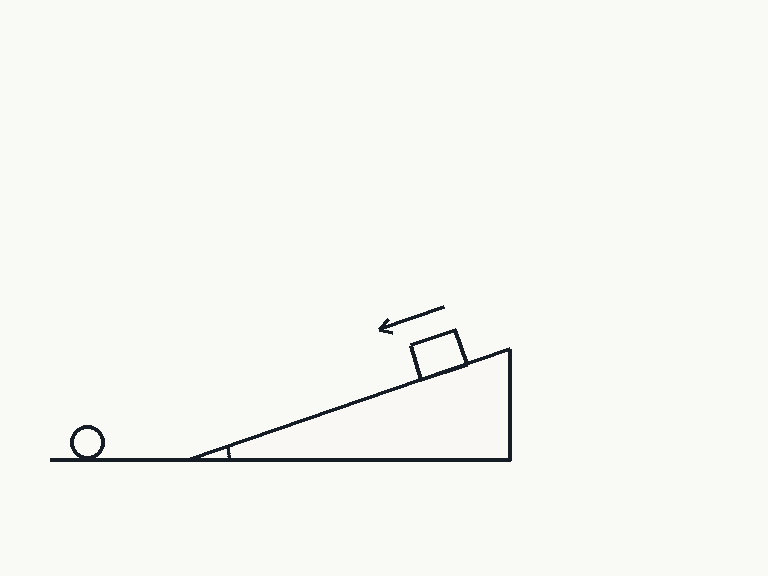ball: (68, 423, 106, 461)
block: (407, 327, 469, 381)
ramp: (187, 347, 512, 461)
